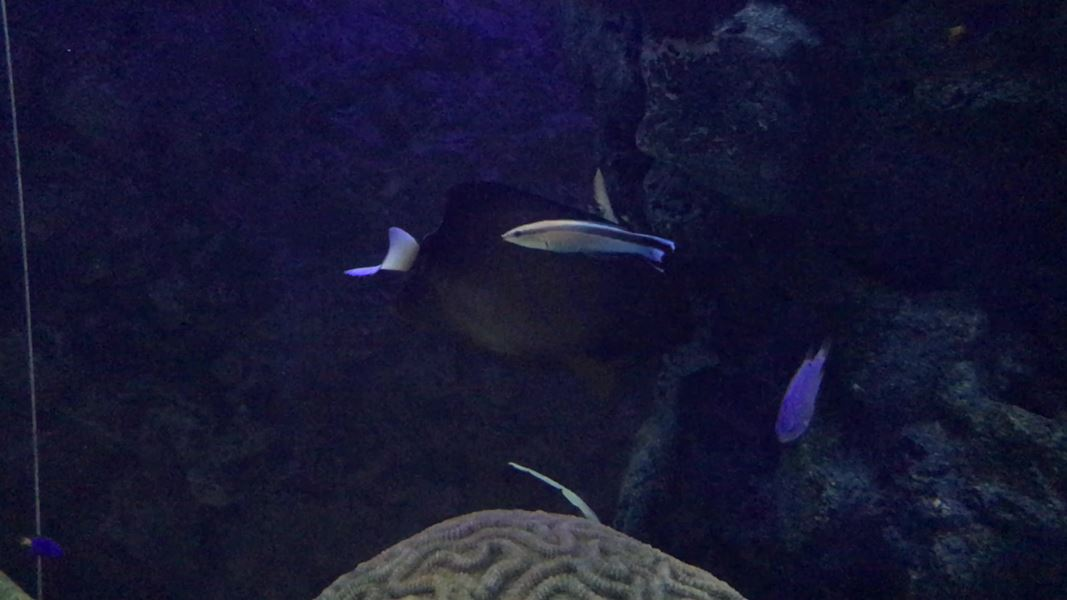Blue ring angelfish: (324, 176, 709, 421)
